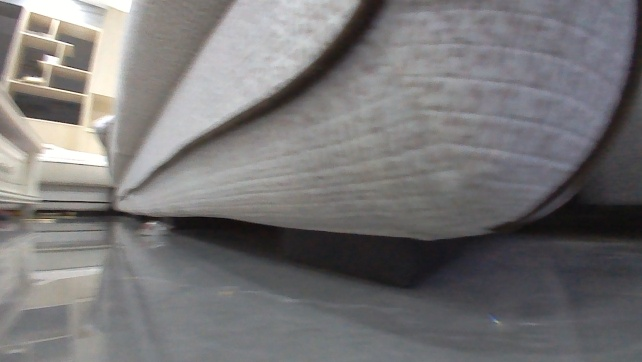sofe1: (27, 0, 641, 293)
